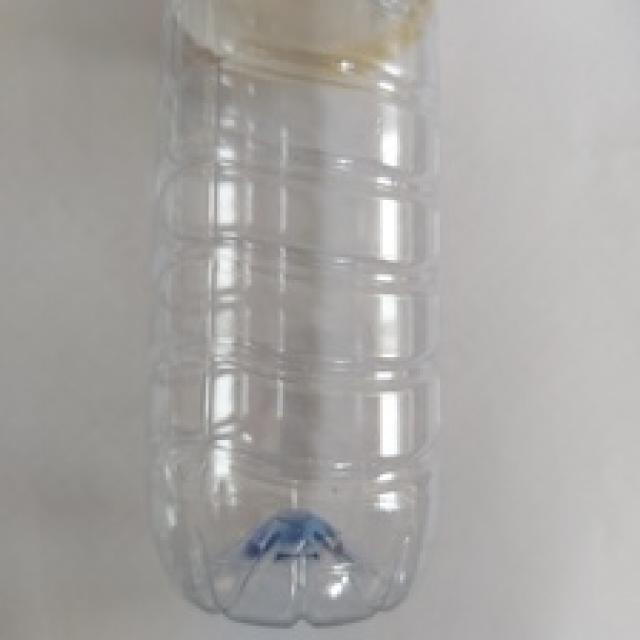Plastic: (159, 0, 435, 626)
